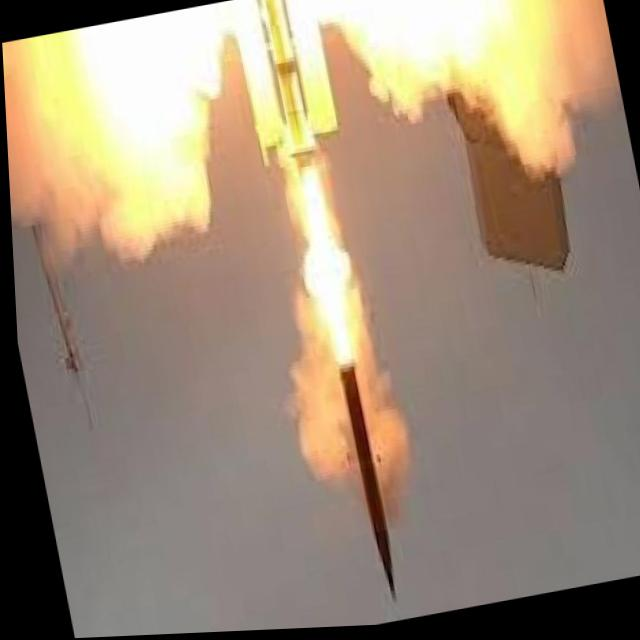missile: (331, 357, 404, 603)
